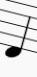D: (4, 0, 32, 60)
